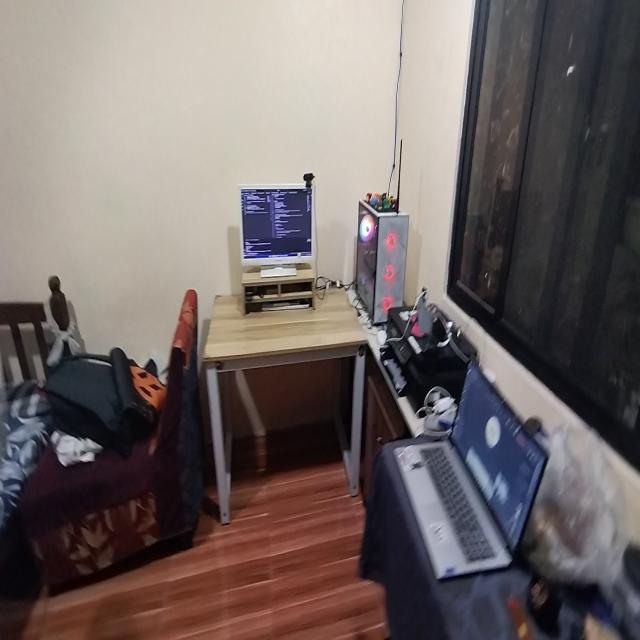table: (201, 280, 377, 530)
